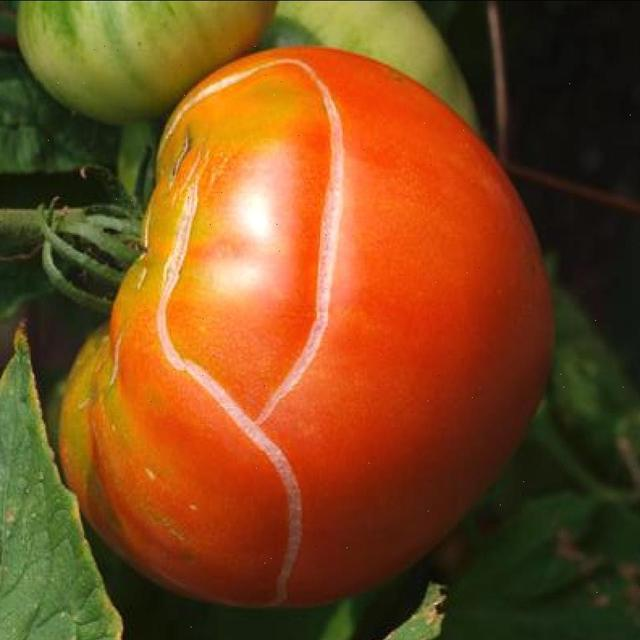Cracking Fruit: (89, 31, 261, 404)
